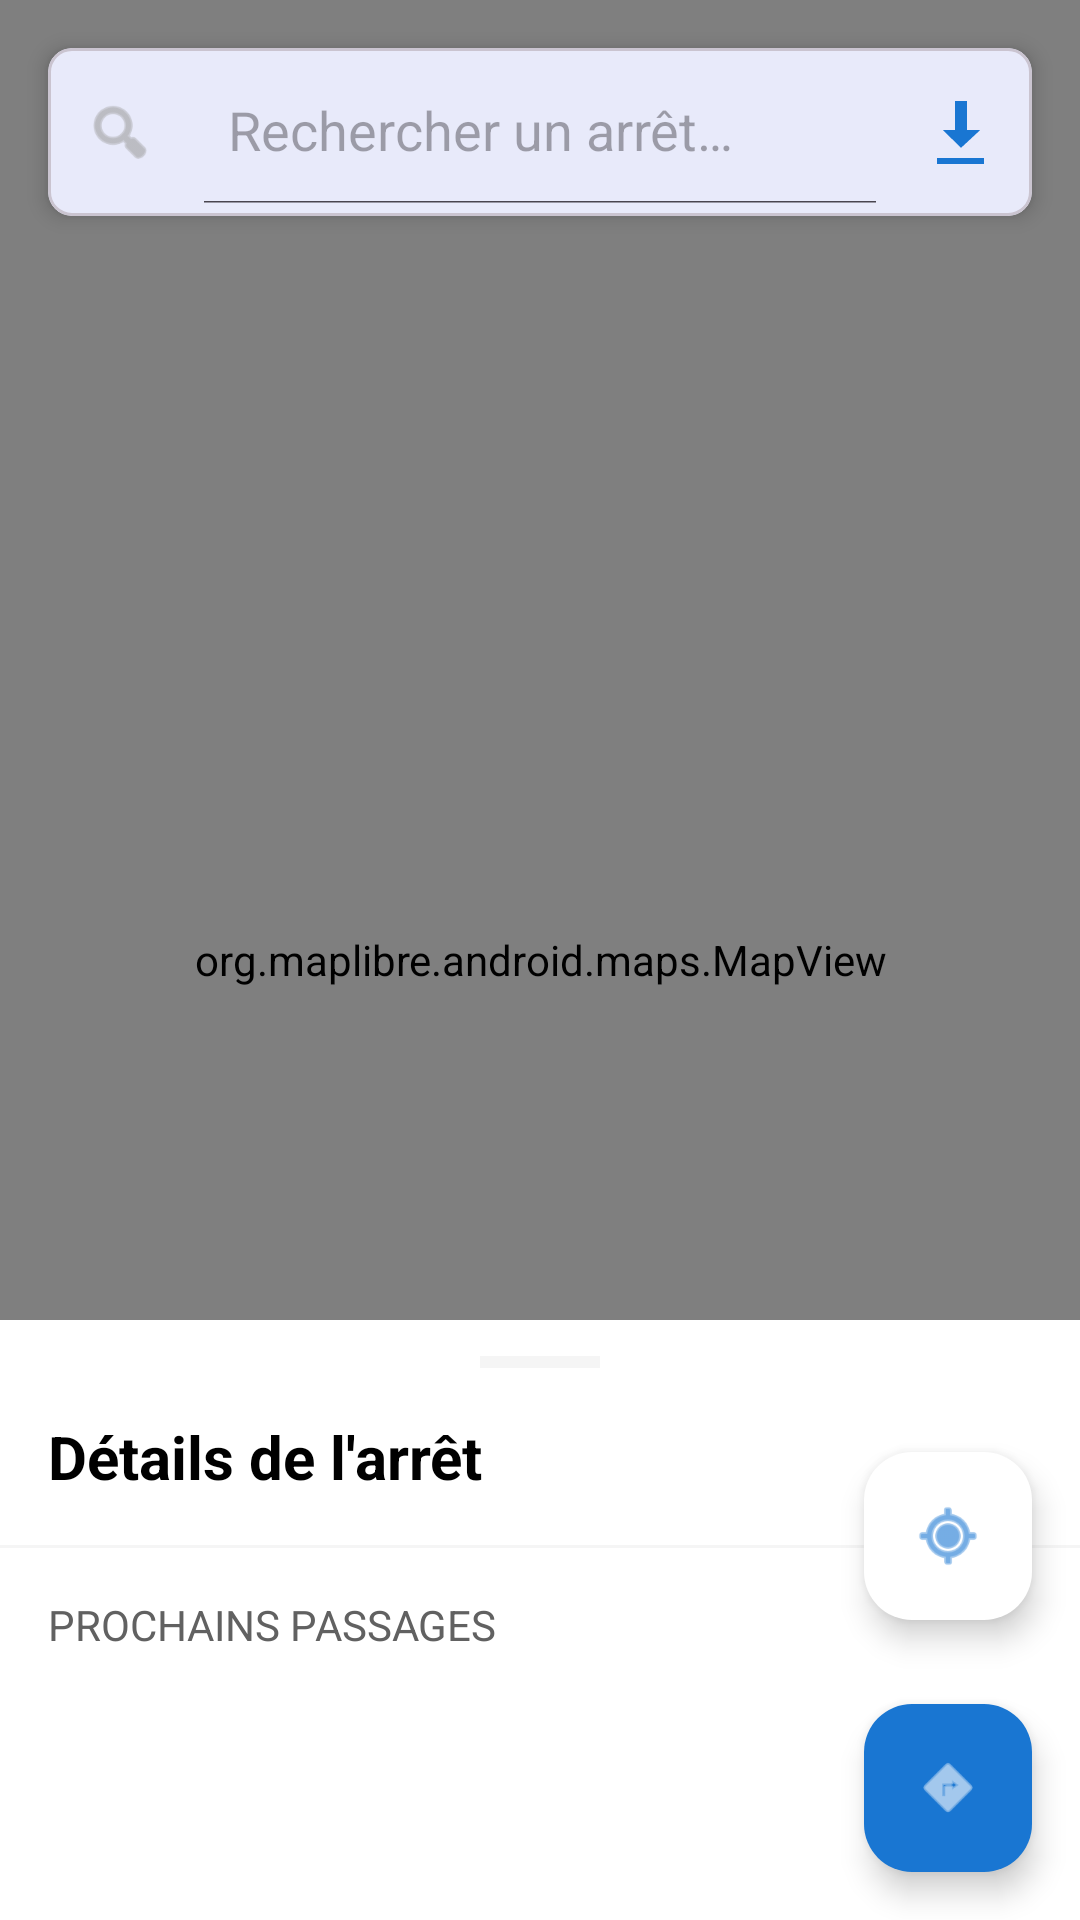

Named icons in this screenshot (1080w x 1920h) and their bounding boxes, (x1, y1, x2, y2):
Importer GTFS: (937, 101, 984, 164)
Itinéraire: (864, 1704, 1032, 1872)
Ma position: (919, 1507, 977, 1565)
search: (94, 106, 146, 159)
